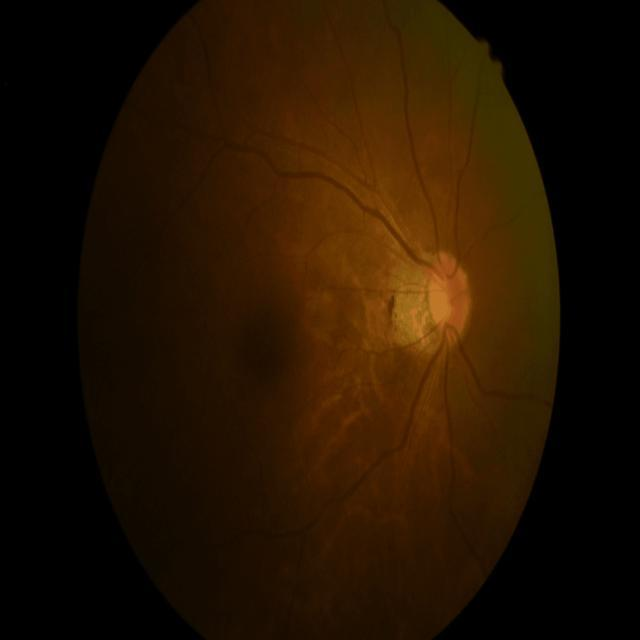cup: (432, 273, 452, 324)
disk: (427, 254, 475, 348)
